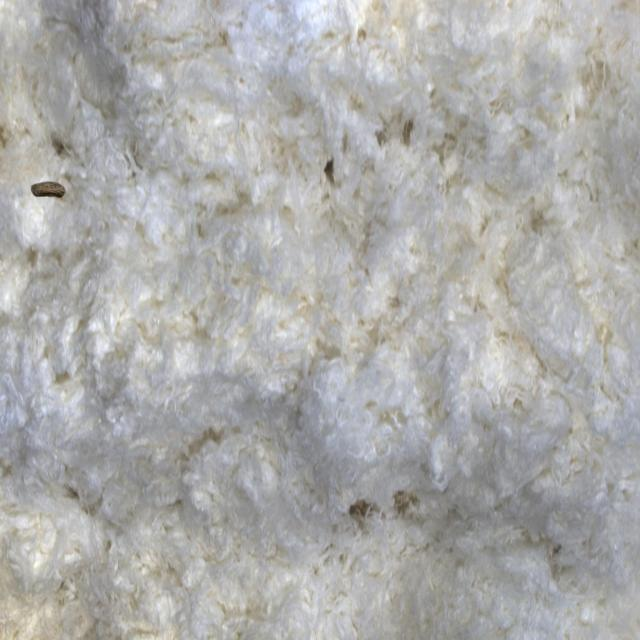dust: (17, 153, 77, 232)
